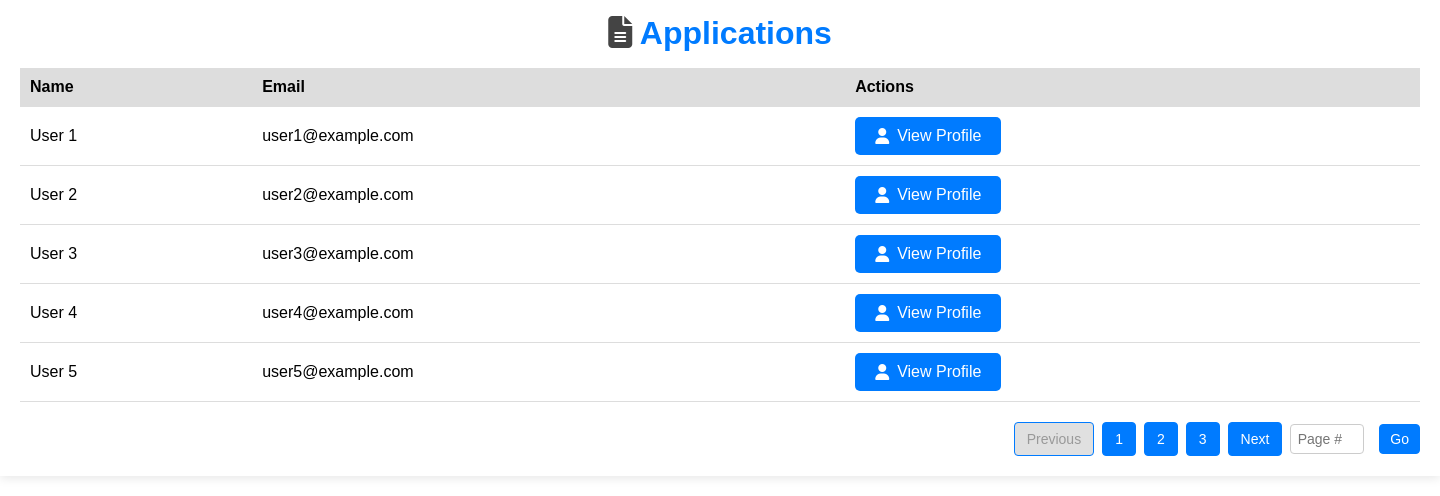
it: Applications Component › handles pagination correctly
Expected: the text "User 1" is shown, [20,106,252,165]
Expected: the text "user 6" is not shown
# Go to the next page
Click the button "Next". click: coordinates (1255, 438)
box: [1228,422,1282,456]
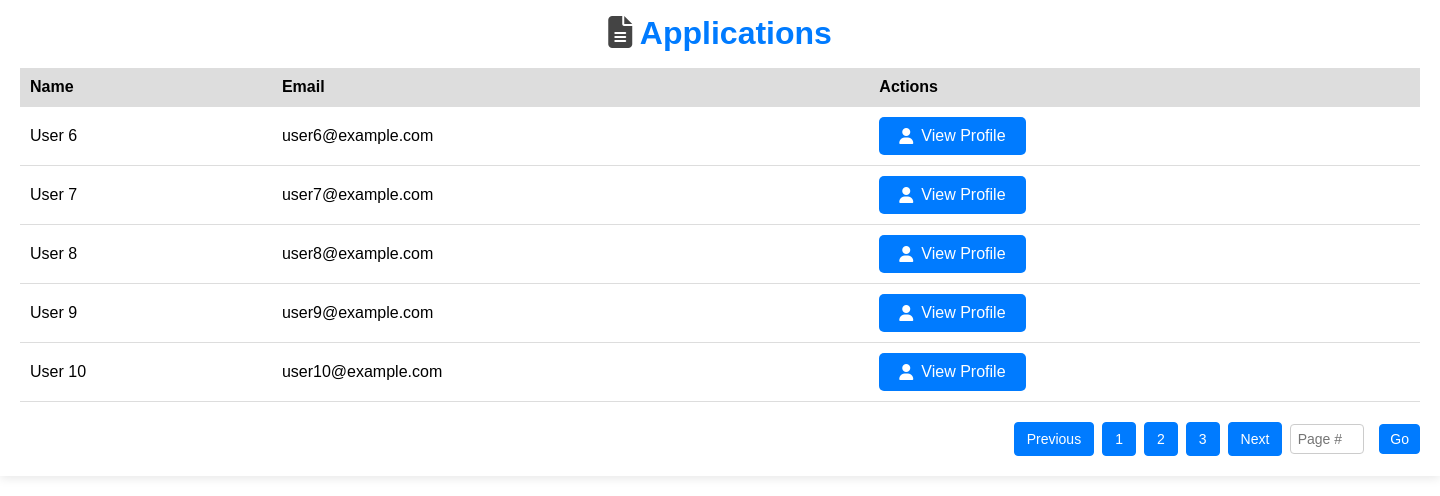
Result: the text "User 6" is shown at [20,106,272,165]
# Go to the previous page
Click the button "Previous". click: coordinates (1054, 438)
box: [1014,422,1094,456]
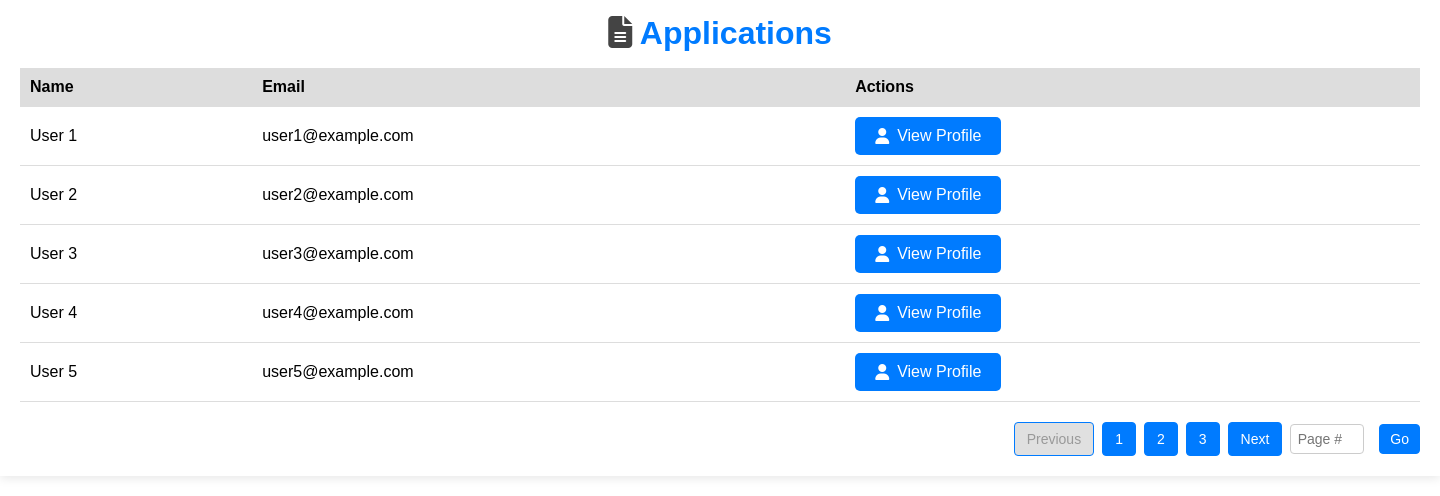
Result: the text "User 1" is shown at [20,106,252,165]
